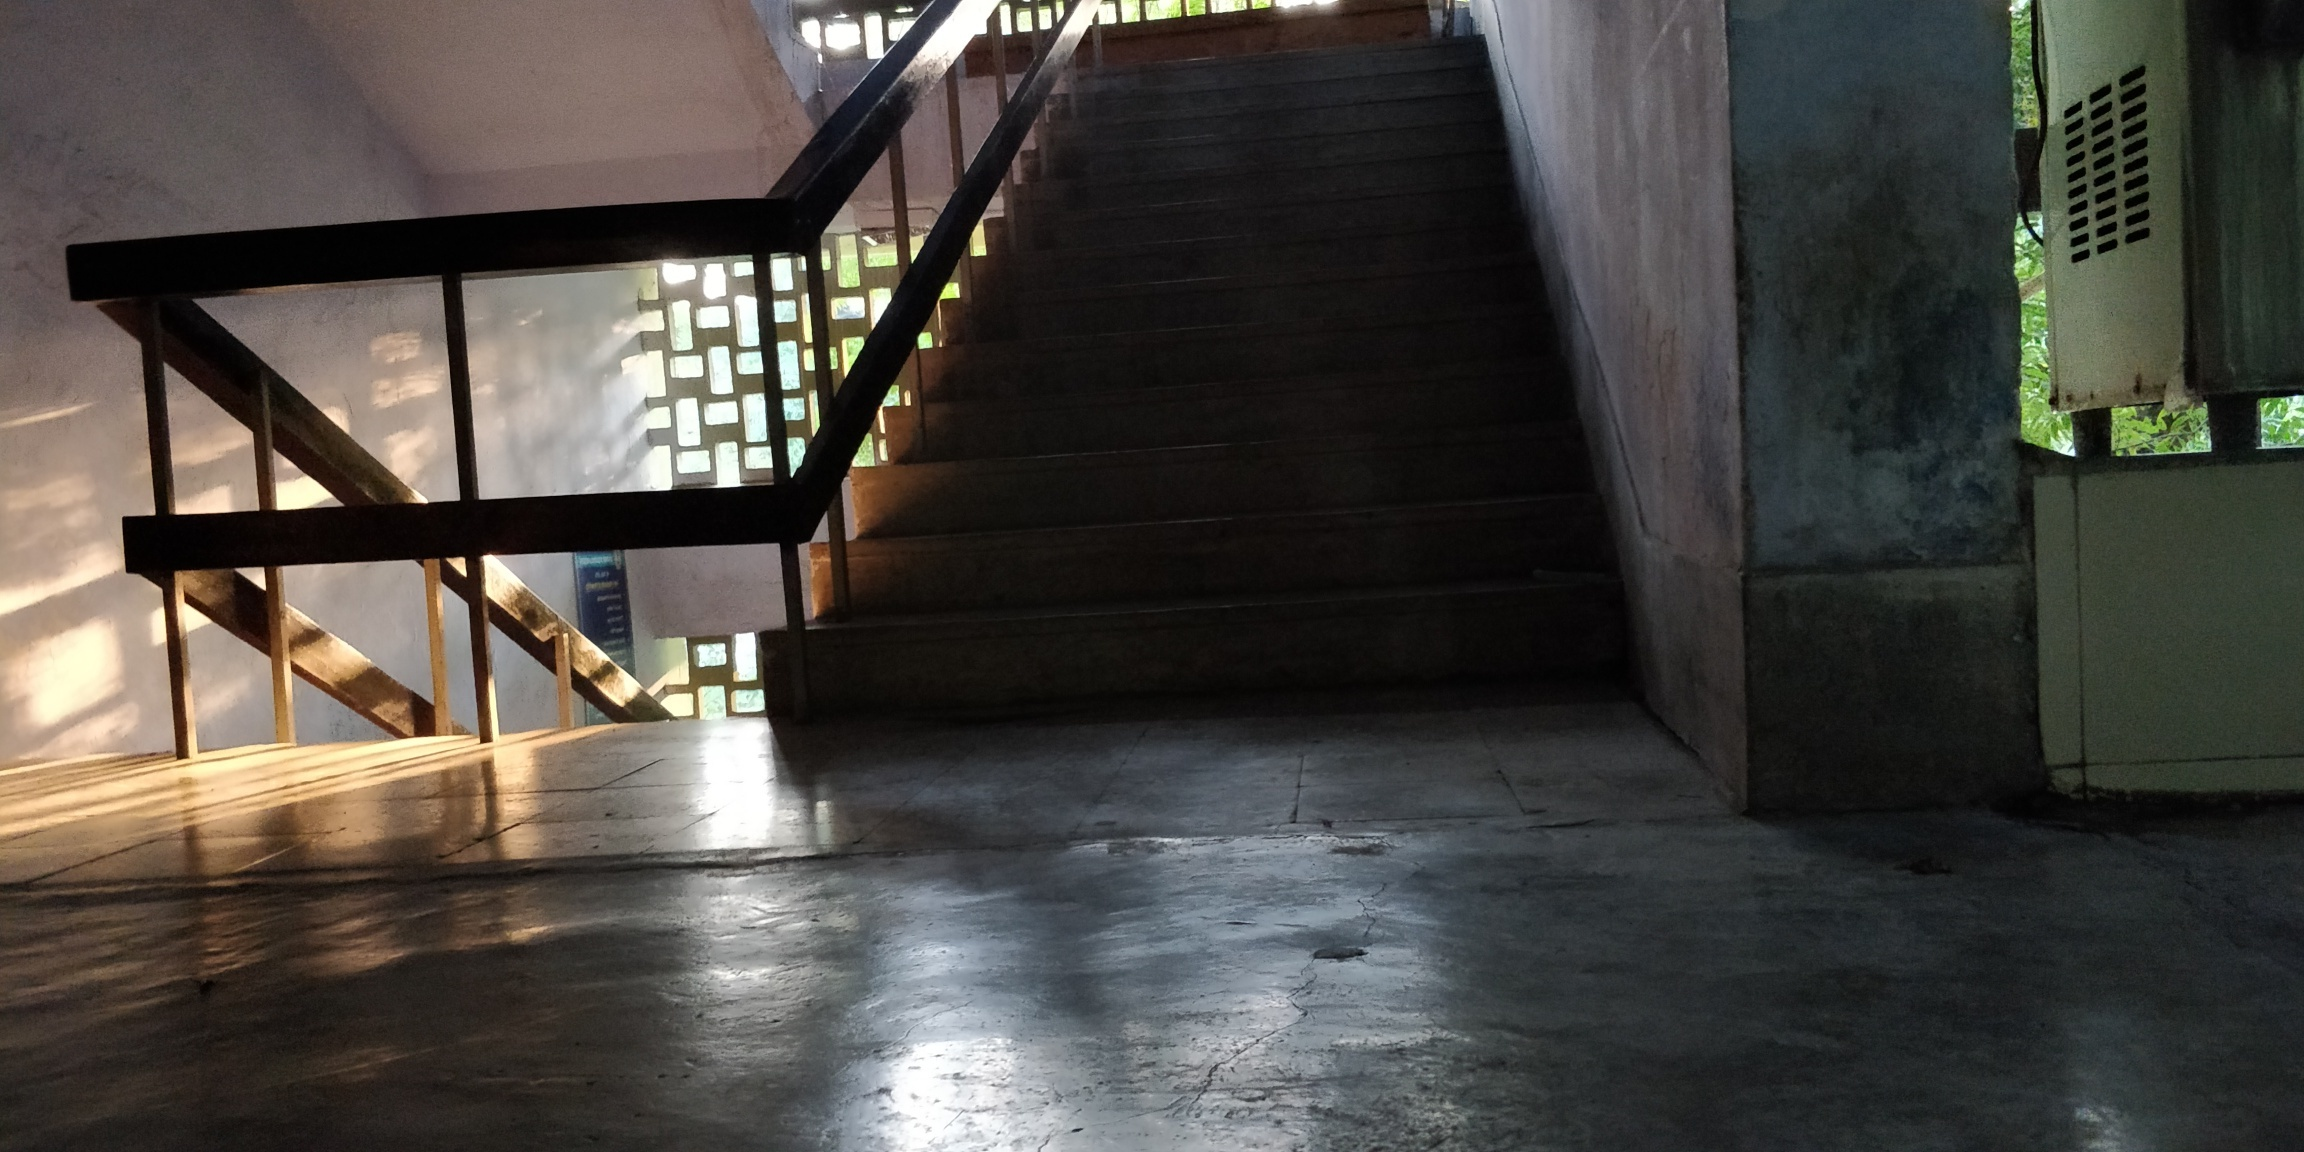stairs_up: (860, 53, 1594, 691)
